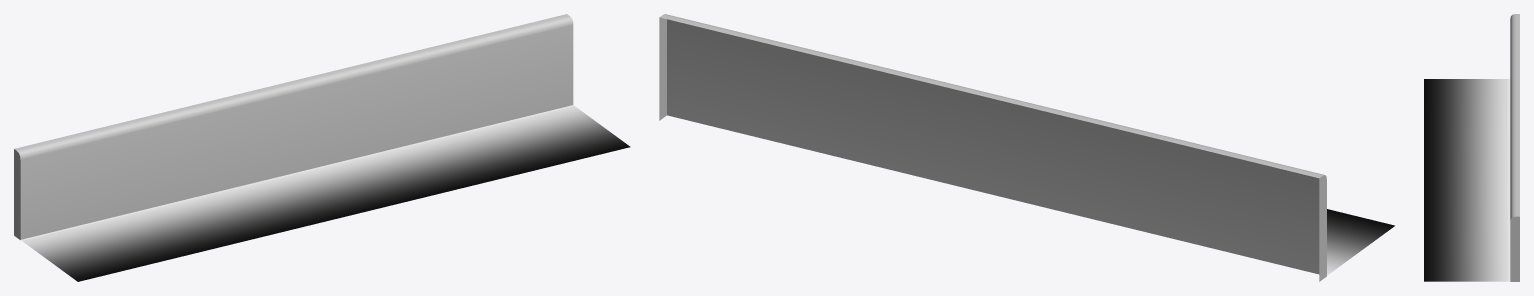
The model's file is Plinth01_100cm.FBX.
The picture shows the model from 3 angles, left to right: view 1: azimuth 30°, elevation 25°; view 2: azimuth 150°, elevation 25°; view 3: azimuth 270°, elevation 25°; orthographic projection. The views are drawn at different scales.
Parts seen in each view (by area): view 1: Plinth, Backlight; view 2: Plinth, Backlight; view 3: Backlight, Plinth.
Boxes of the visible parts, bbox=[...] form: Plinth: bbox=[14, 14, 573, 239]; Backlight: bbox=[21, 105, 630, 281]; Plinth: bbox=[659, 14, 1326, 281]; Backlight: bbox=[1327, 209, 1394, 275]; Backlight: bbox=[1424, 79, 1510, 281]; Plinth: bbox=[1510, 14, 1519, 281].
Bounding box in the file's own units: 1000 × 150 × 200.
